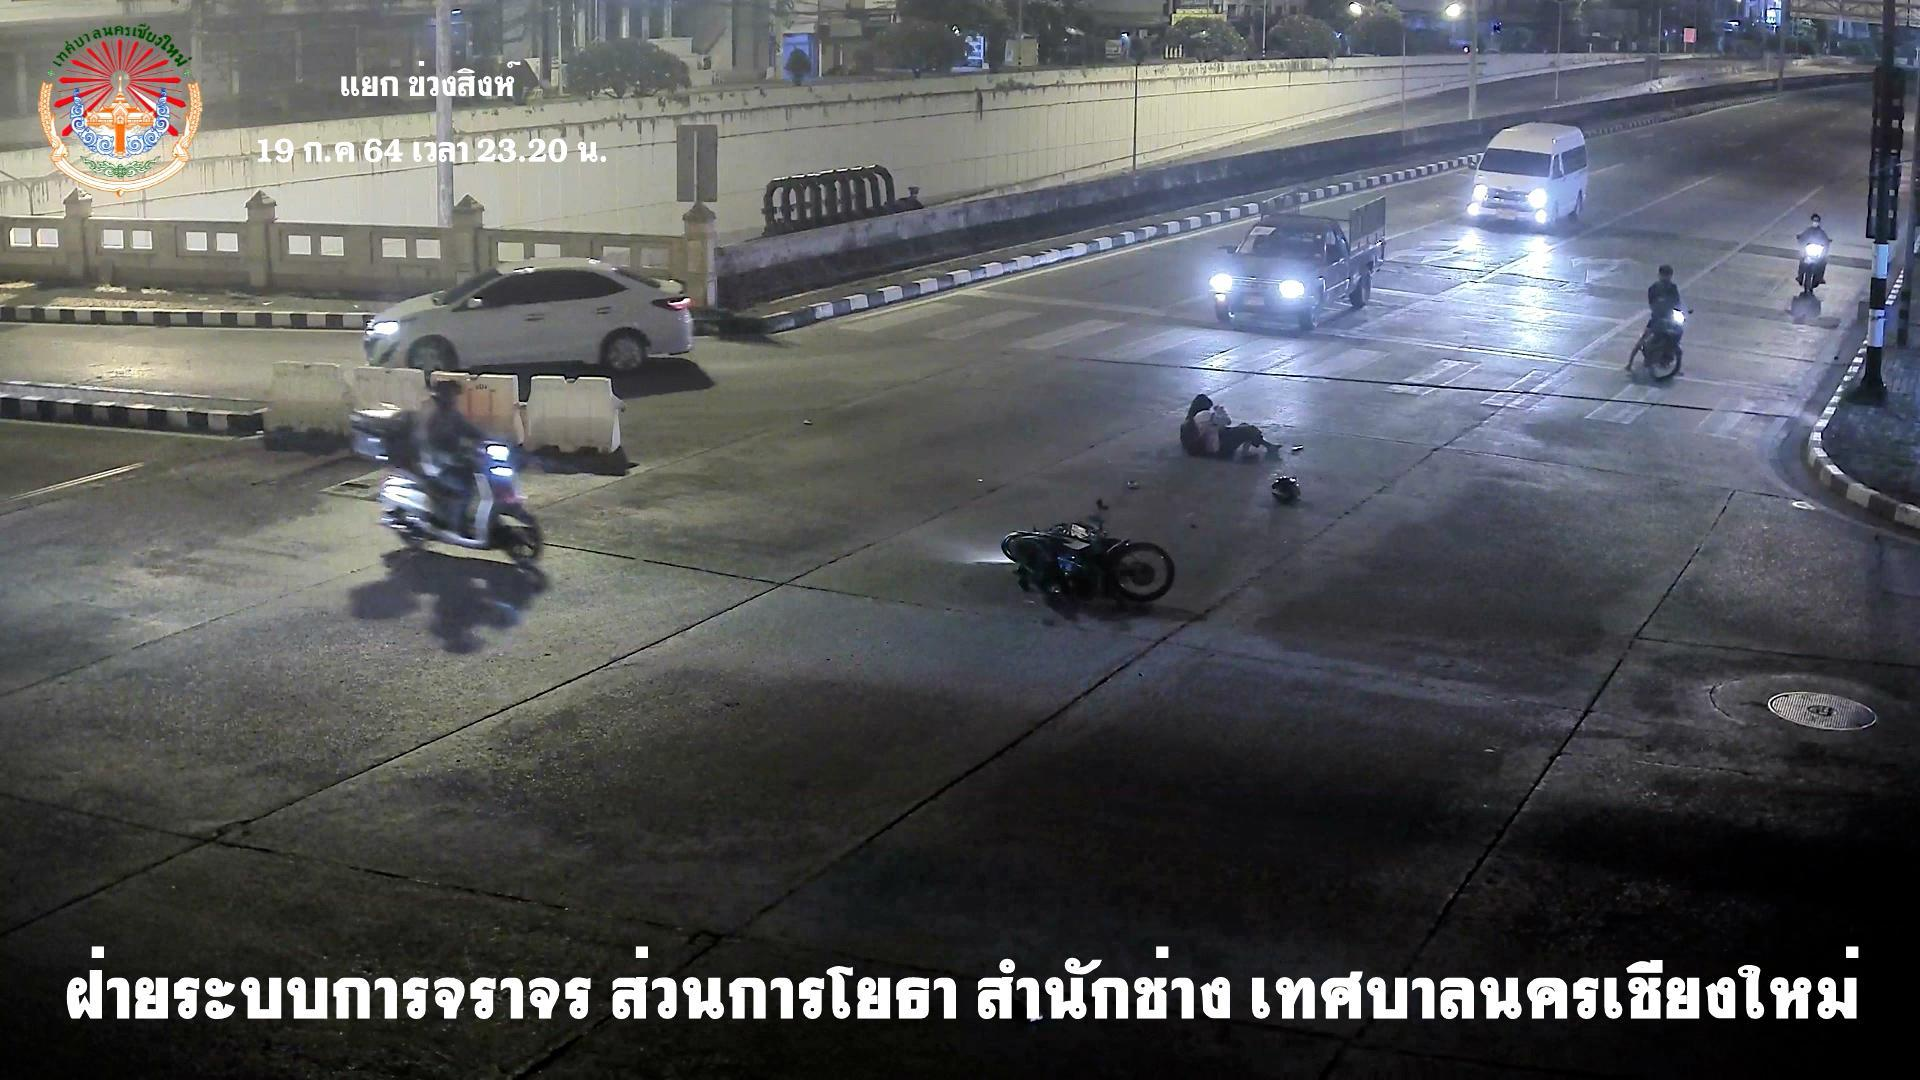accident: (1175, 393, 1284, 464)
